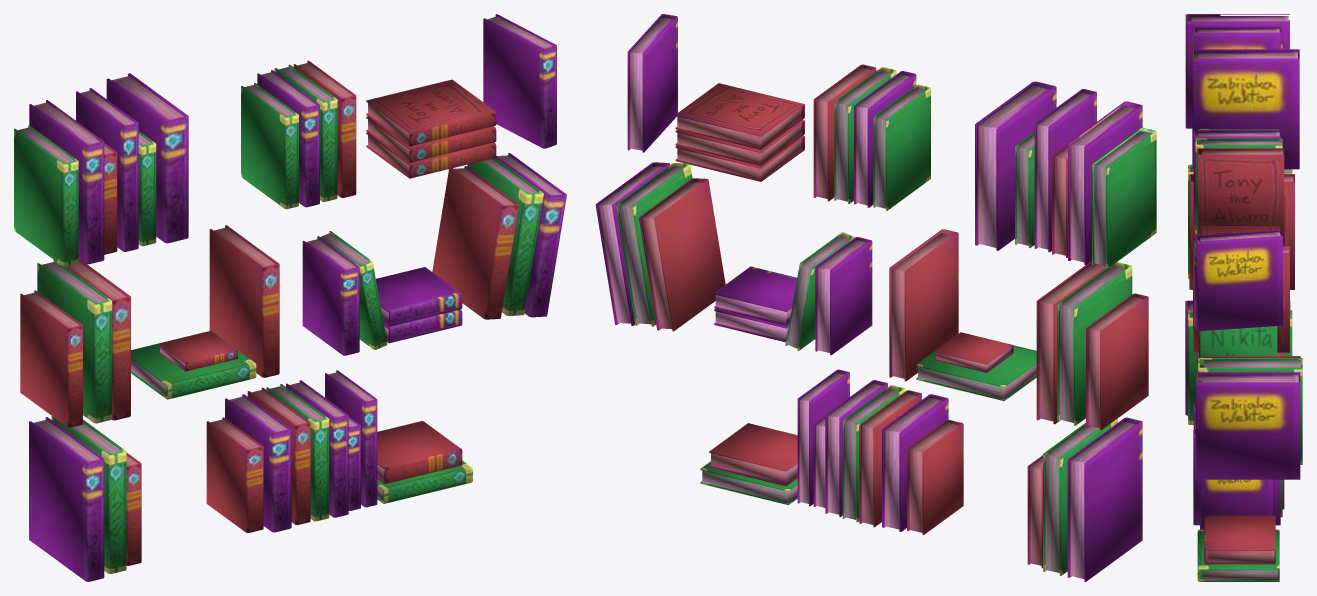
Rendered from bookshelvesExport2.fbx.
3 renders of one model, left to right at view 1: azimuth 30°, elevation 25°; view 2: azimuth 150°, elevation 25°; view 3: azimuth 270°, elevation 25°, orthographic. The views are drawn at different scales.
Parts seen in each view (by area): view 1: book.002; view 2: book.002; view 3: book.002.
Boxes of the visible parts, x1,y1,x2,y2 form: book.002: [14, 14, 566, 581]; book.002: [595, 14, 1156, 581]; book.002: [1185, 14, 1302, 581].
Bounding box in the file's own units: 7.41 × 6.22 × 1.65.
